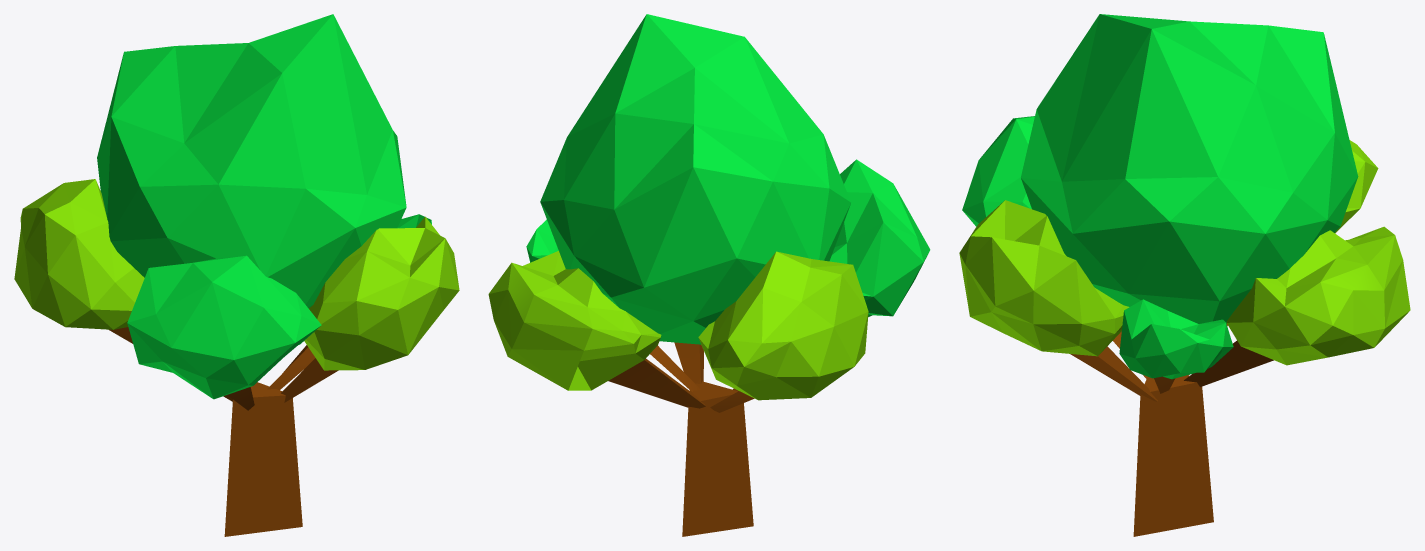
The model's file is drvo2.fbx.
3 views of the same model, side by side, from view 1: azimuth 30°, elevation 25°; view 2: azimuth 150°, elevation 25°; view 3: azimuth 270°, elevation 25° (orthographic). The views are drawn at different scales.
Parts seen in each view (by area): view 1: drvo_2; view 2: drvo_2; view 3: drvo_2.
Part boxes in pixels (left/top/right/bottom): drvo_2: left=14, top=14, right=459, bottom=536; drvo_2: left=488, top=14, right=930, bottom=536; drvo_2: left=959, top=14, right=1410, bottom=536.
Bounding box in the file's own units: 456 × 597 × 462.
